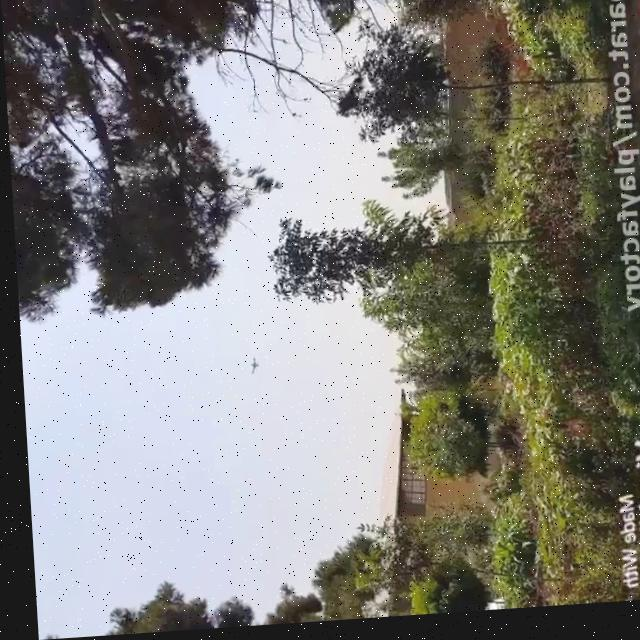drone: (237, 358, 255, 380)
